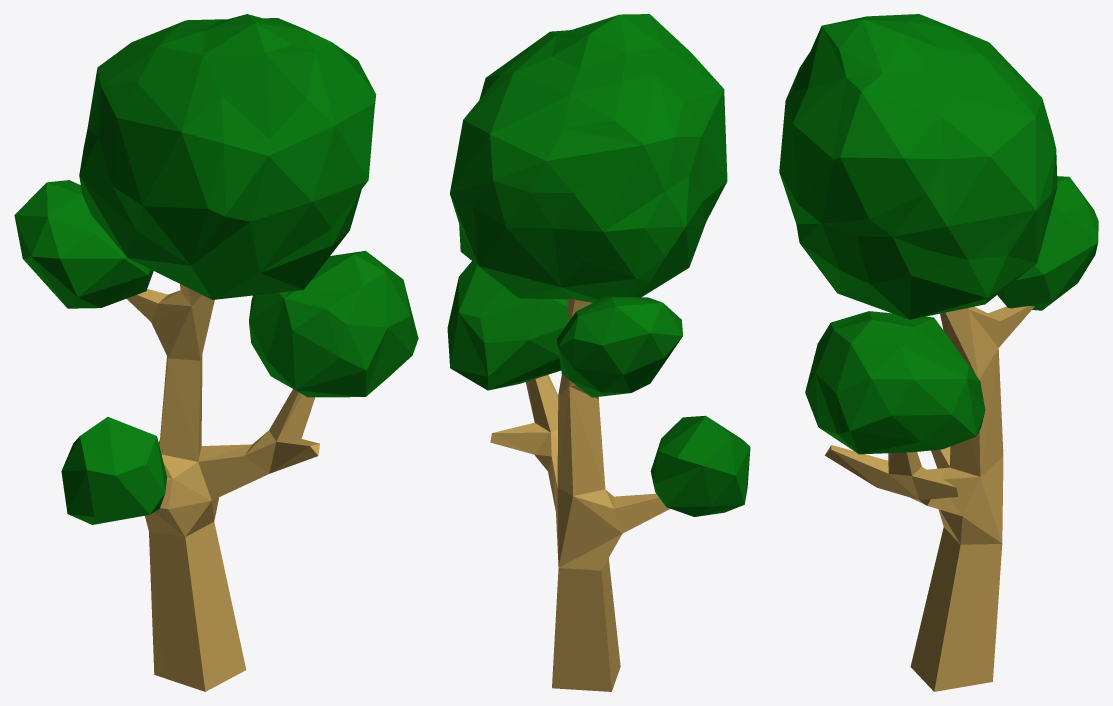
The model's file is Tree_01.fbx.
3 views of the same model, side by side, from view 1: azimuth 30°, elevation 25°; view 2: azimuth 150°, elevation 25°; view 3: azimuth 270°, elevation 25° (orthographic). The views are drawn at different scales.
Visible parts, largest first — view 1: Tree_01_LOD0.001; view 2: Tree_01_LOD0.001; view 3: Tree_01_LOD0.001.
Part boxes in pixels (<box>): Tree_01_LOD0.001: <box>14,14,418,691</box>; Tree_01_LOD0.001: <box>447,14,750,691</box>; Tree_01_LOD0.001: <box>779,14,1098,691</box>.
Bounding box in the file's own units: 0.7323 × 1.67 × 0.8193.
